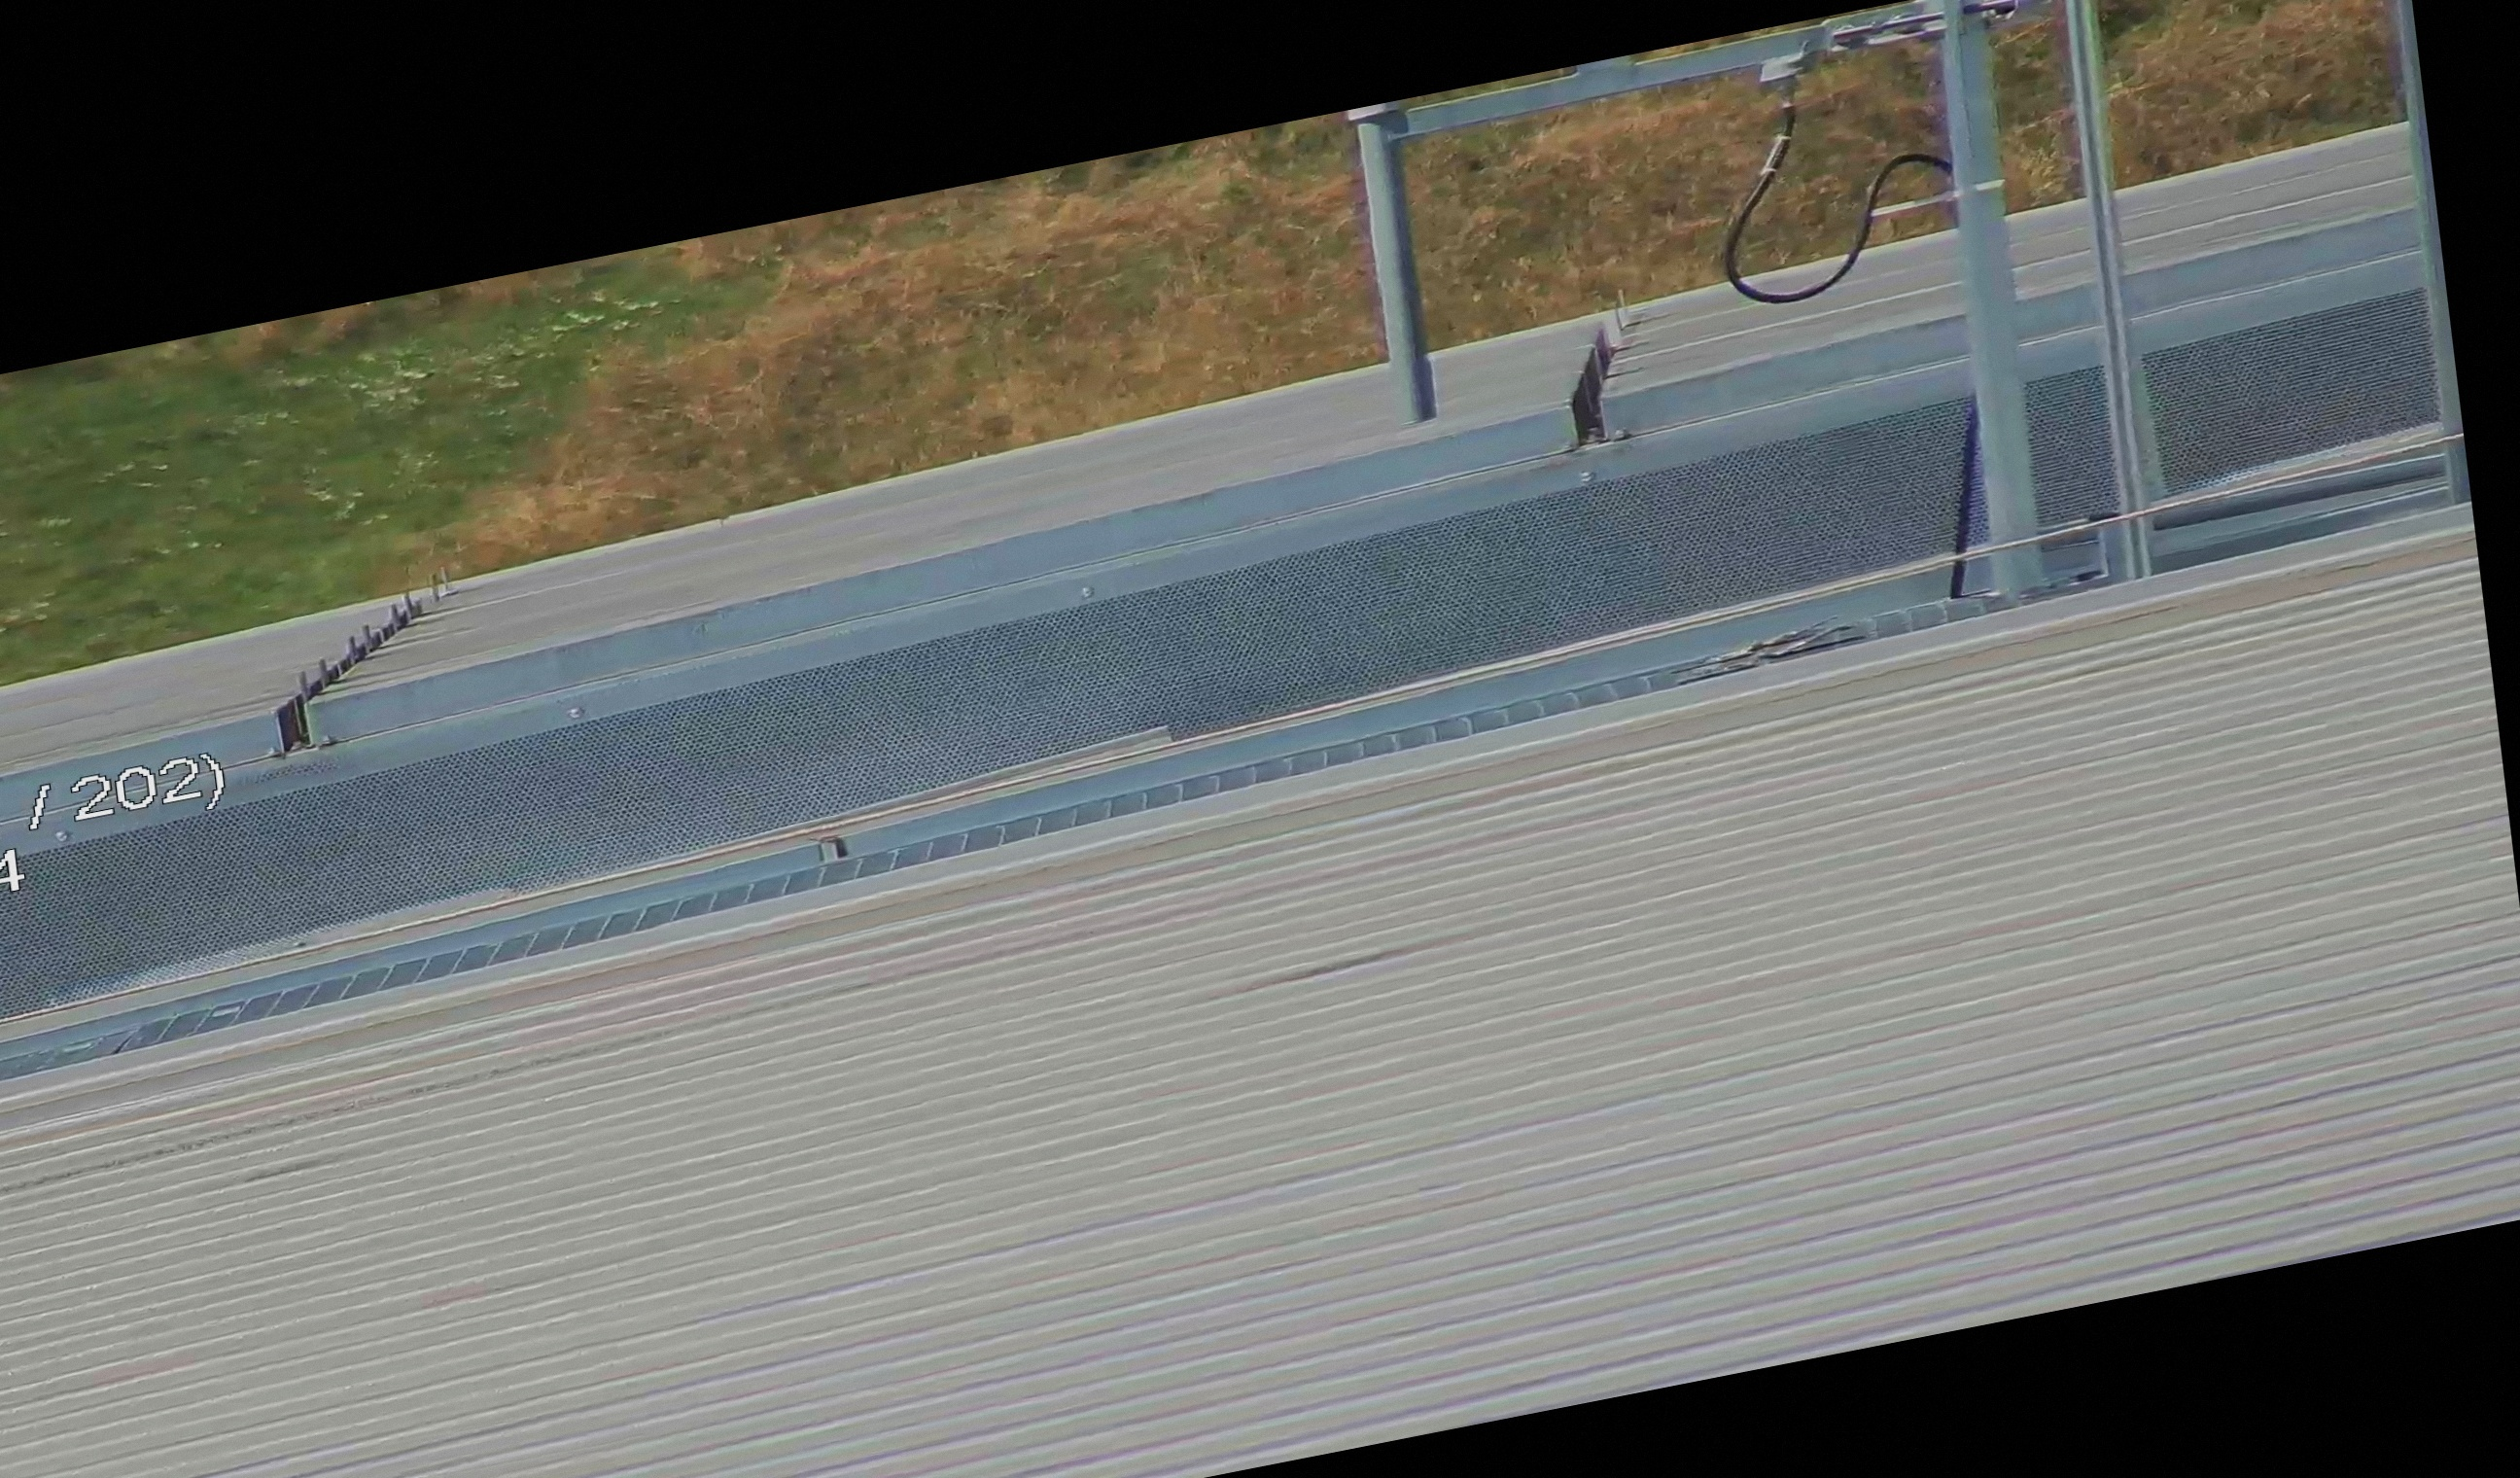Other: (1549, 303, 1664, 450)
